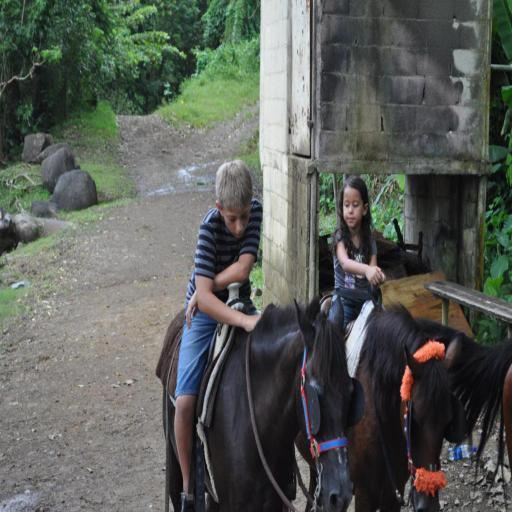horse: (160, 298, 355, 512), (349, 300, 467, 512), (419, 318, 512, 512)
